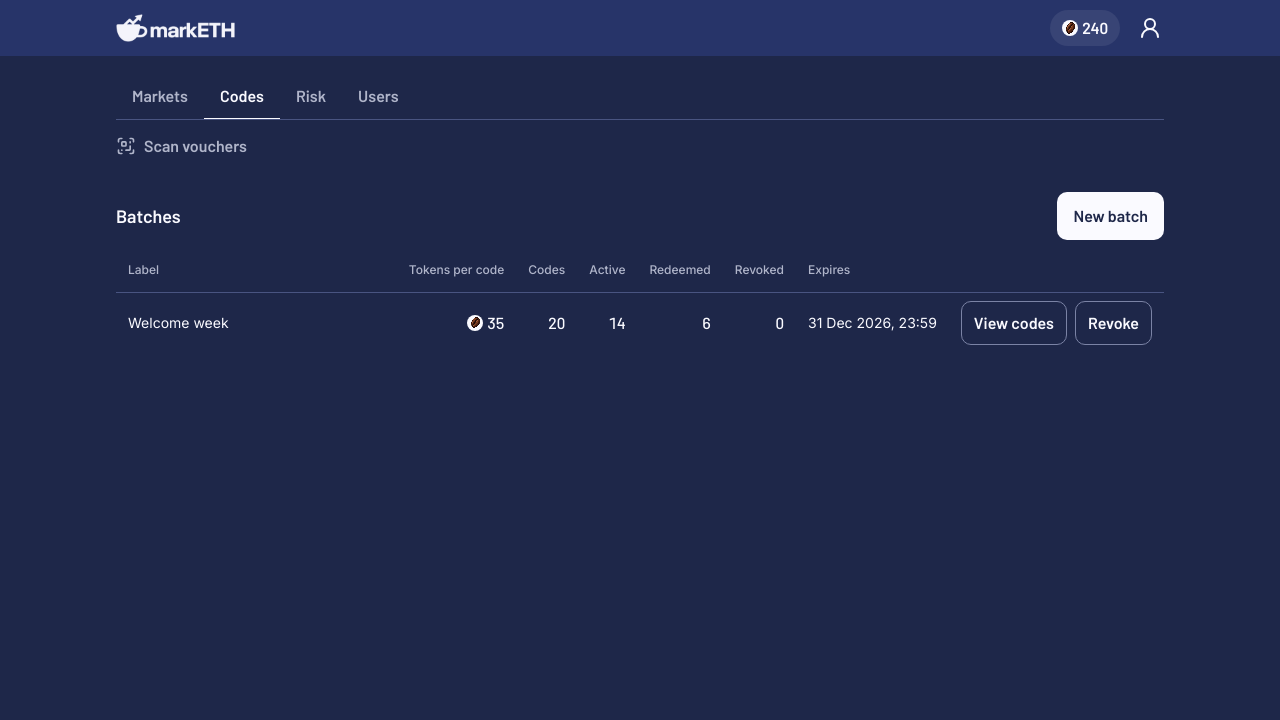
New batch › states its bounds from /config: the length of a label, the most codes, and what a code may be for
expect the table named "Batches" is shown: met, box [116,248,1164,352]
Click the button "New batch" at x=1111, y=216, box [1057,192,1164,240]
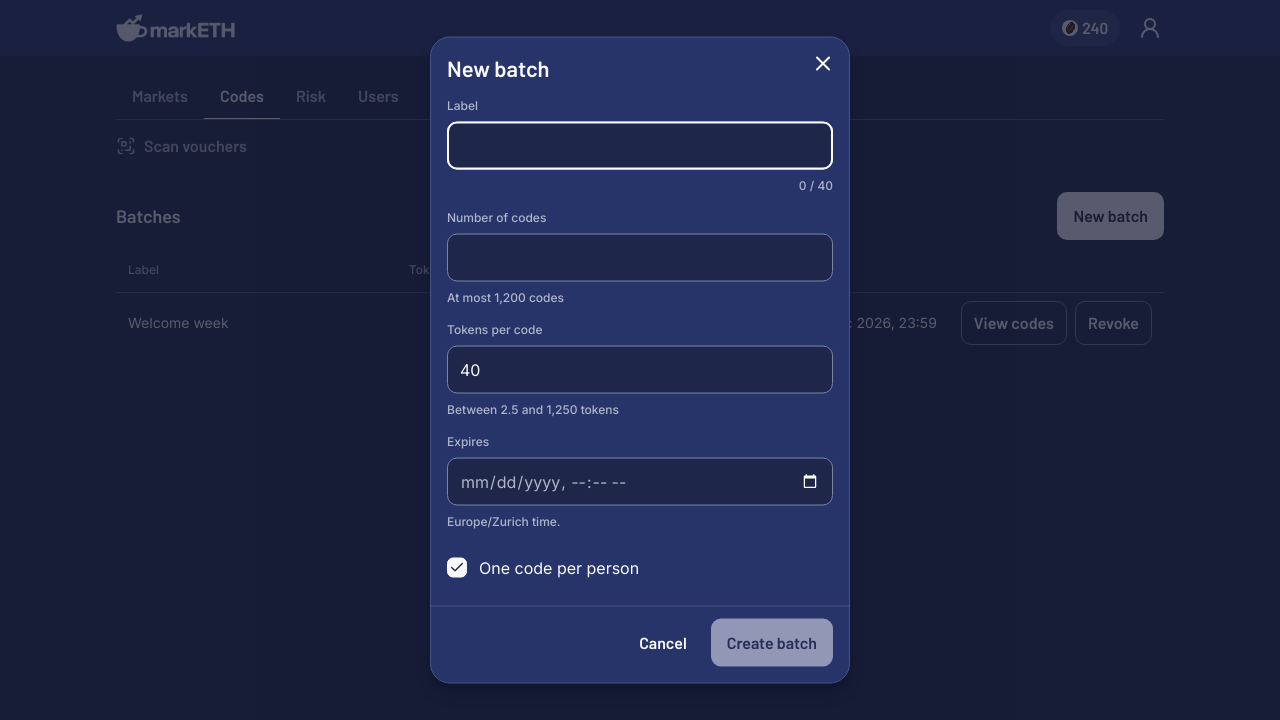
expect the text "0 / 40" is shown: met, box [799,178,833,194]
Type "Kater" into the field labelled "Label" at x=640, y=146, box [447,122,833,170]
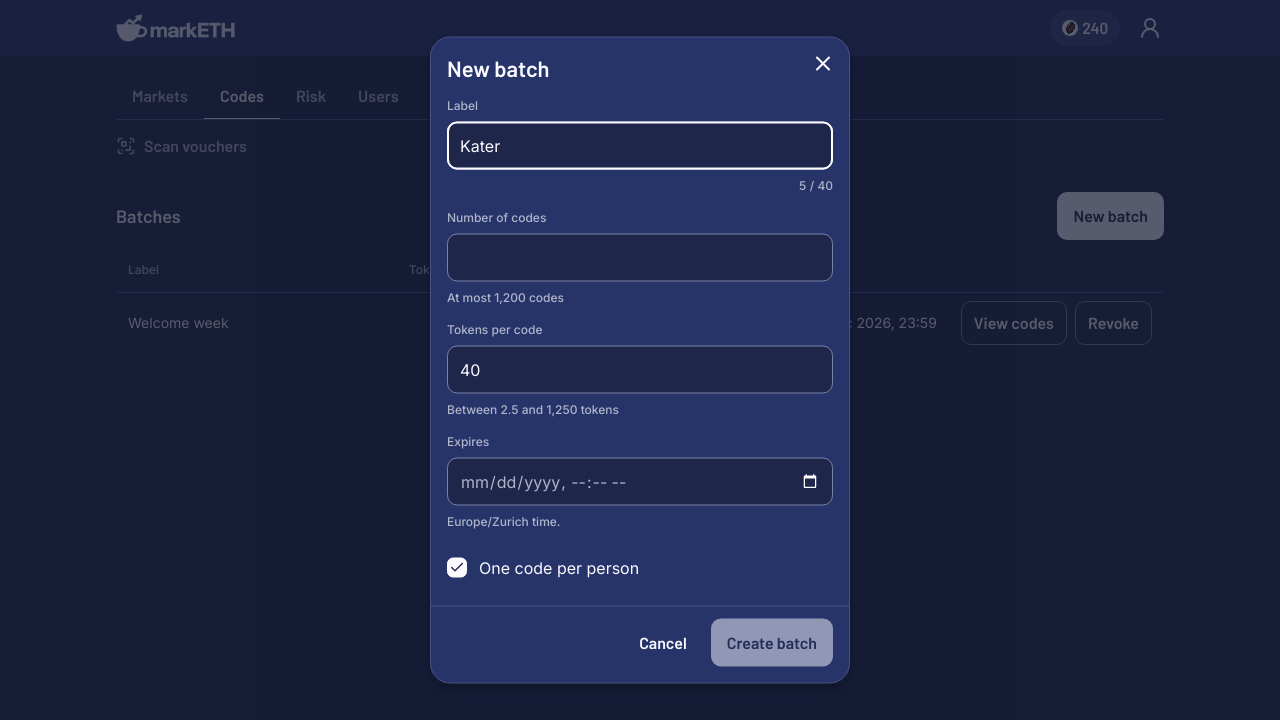
expect the field labelled "Tokens per code" holds "40": met, box [447,346,833,394]
expect the text "5 / 40" is shown: met, box [799,178,833,194]
